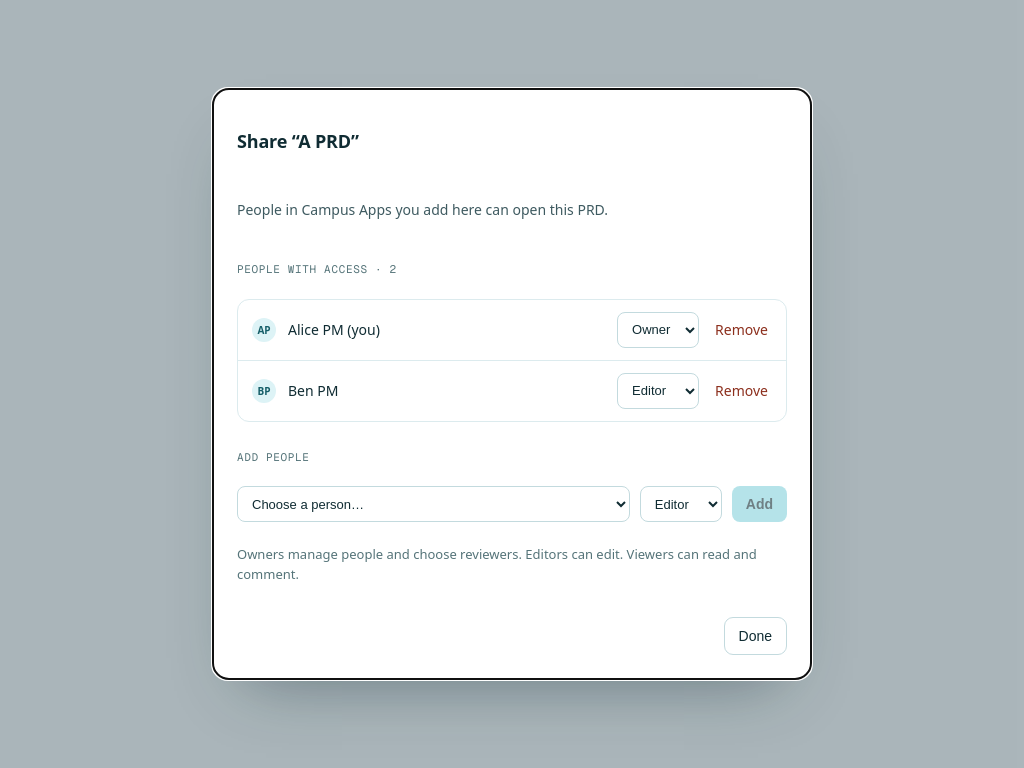
Test: ShareDialog › asks before removing yourself, and Cancel leaves things as they are
This screenshot has width=1024, height=768.
Click the button "Remove" in the row of "Alice PM" at (742, 330), box [711, 313, 772, 346]
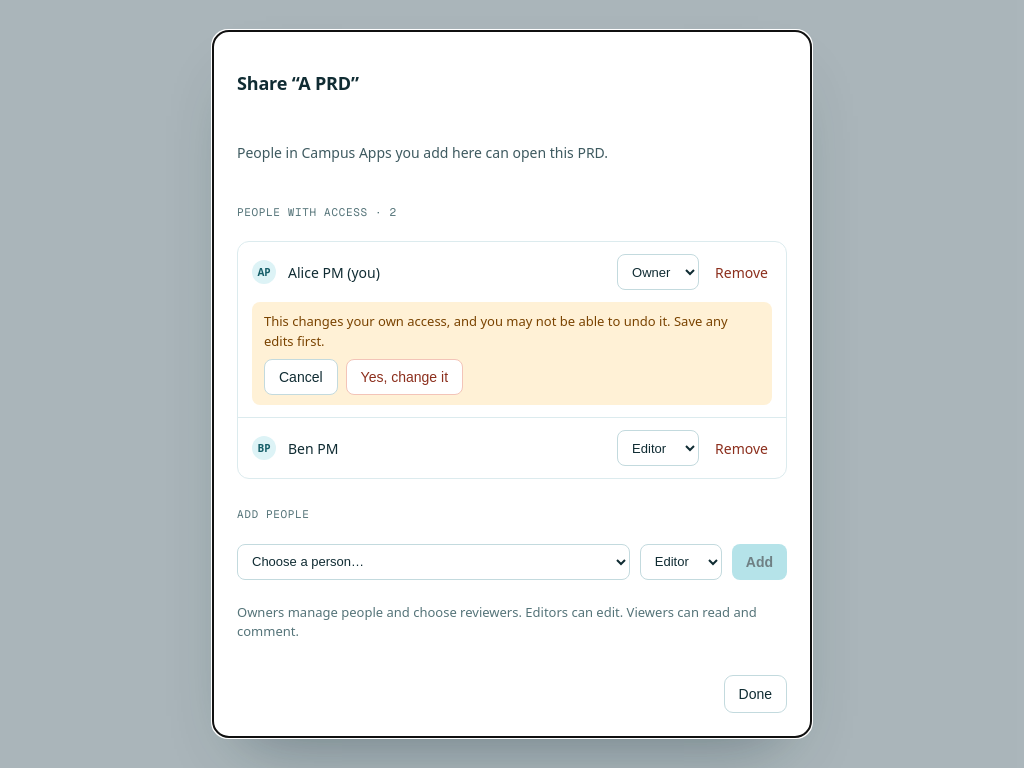
Click the button "Cancel" at (301, 377), box [264, 359, 338, 395]
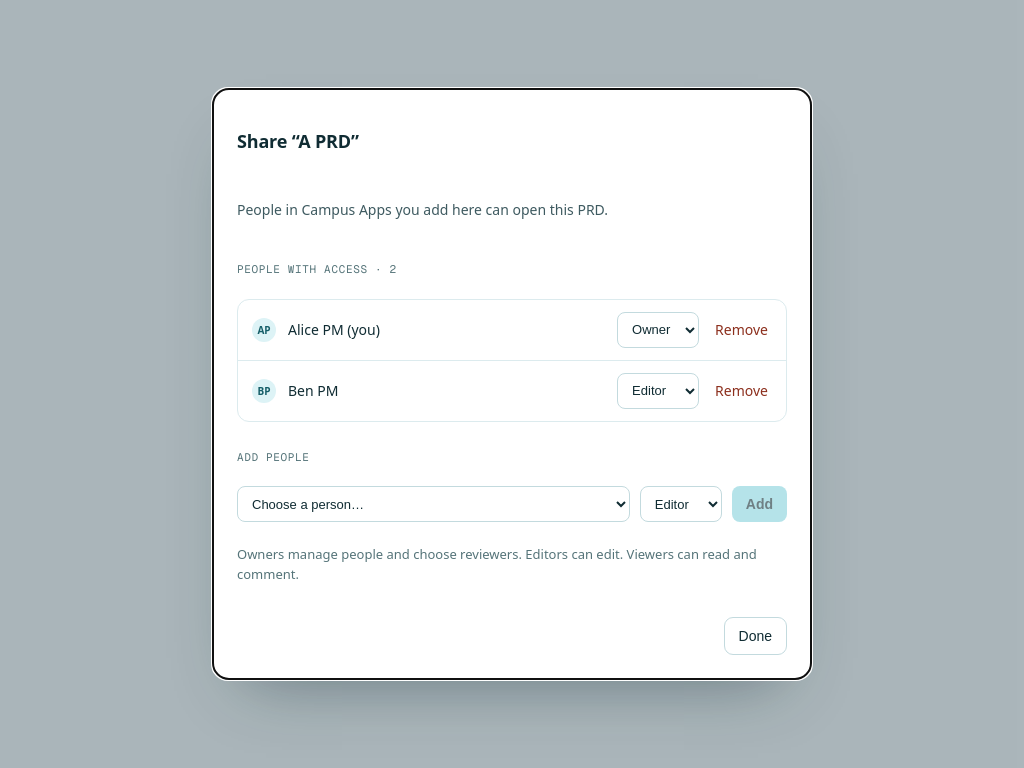
Result: the text "This changes your own access" is gone
